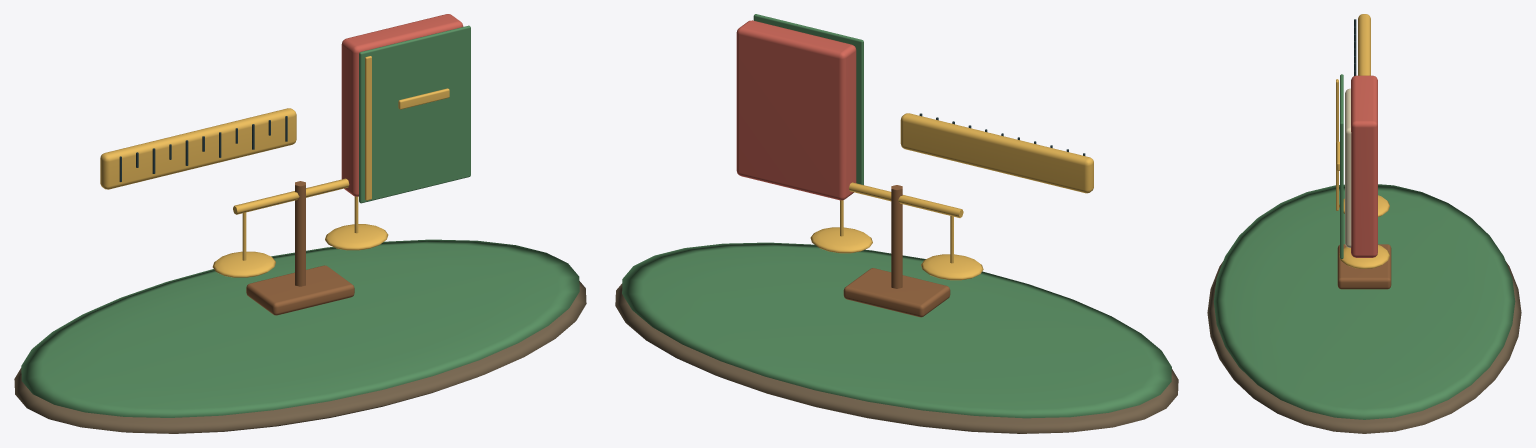
File: complete-second-law-teacher.glb
3 renders of one model, left to right at view 1: azimuth 30°, elevation 25°; view 2: azimuth 150°, elevation 25°; view 3: azimuth 270°, elevation 25°, orthographic. The views are drawn at different scales.
Parts seen in each view (by area): view 1: complete-second-law-teacher_surface_01, complete-second-law-teacher_surface_02, complete-second-law-teacher_surface_00, complete-second-law-teacher_surface_04, complete-second-law-teacher_surface_06, complete-second-law-teacher_surface_03; view 2: complete-second-law-teacher_surface_01, complete-second-law-teacher_surface_04, complete-second-law-teacher_surface_02, complete-second-law-teacher_surface_00, complete-second-law-teacher_surface_06; view 3: complete-second-law-teacher_surface_01, complete-second-law-teacher_surface_00, complete-second-law-teacher_surface_04, complete-second-law-teacher_surface_02, complete-second-law-teacher_surface_06, complete-second-law-teacher_surface_05.
Boxes of the visible parts, x1,y1,x2,y2 form: complete-second-law-teacher_surface_01: (21,25,579,417); complete-second-law-teacher_surface_02: (100,56,449,277); complete-second-law-teacher_surface_00: (14,281,586,433); complete-second-law-teacher_surface_04: (341,14,463,196); complete-second-law-teacher_surface_06: (246,181,354,315); complete-second-law-teacher_surface_03: (119,116,287,181); complete-second-law-teacher_surface_01: (622,14,1171,418); complete-second-law-teacher_surface_04: (736,20,856,200); complete-second-law-teacher_surface_02: (810,113,1093,280); complete-second-law-teacher_surface_00: (615,283,1178,433); complete-second-law-teacher_surface_06: (843,185,950,317); complete-second-law-teacher_surface_01: (1213,74,1515,419); complete-second-law-teacher_surface_00: (1207,262,1521,433); complete-second-law-teacher_surface_04: (1351,75,1377,257); complete-second-law-teacher_surface_02: (1336,14,1389,268); complete-second-law-teacher_surface_06: (1337,244,1391,289); complete-second-law-teacher_surface_05: (1345,88,1351,247).
Bounding box in the file's own units: 4.56 × 2.41 × 2.5.
